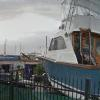Boat: (38, 19, 100, 100)
